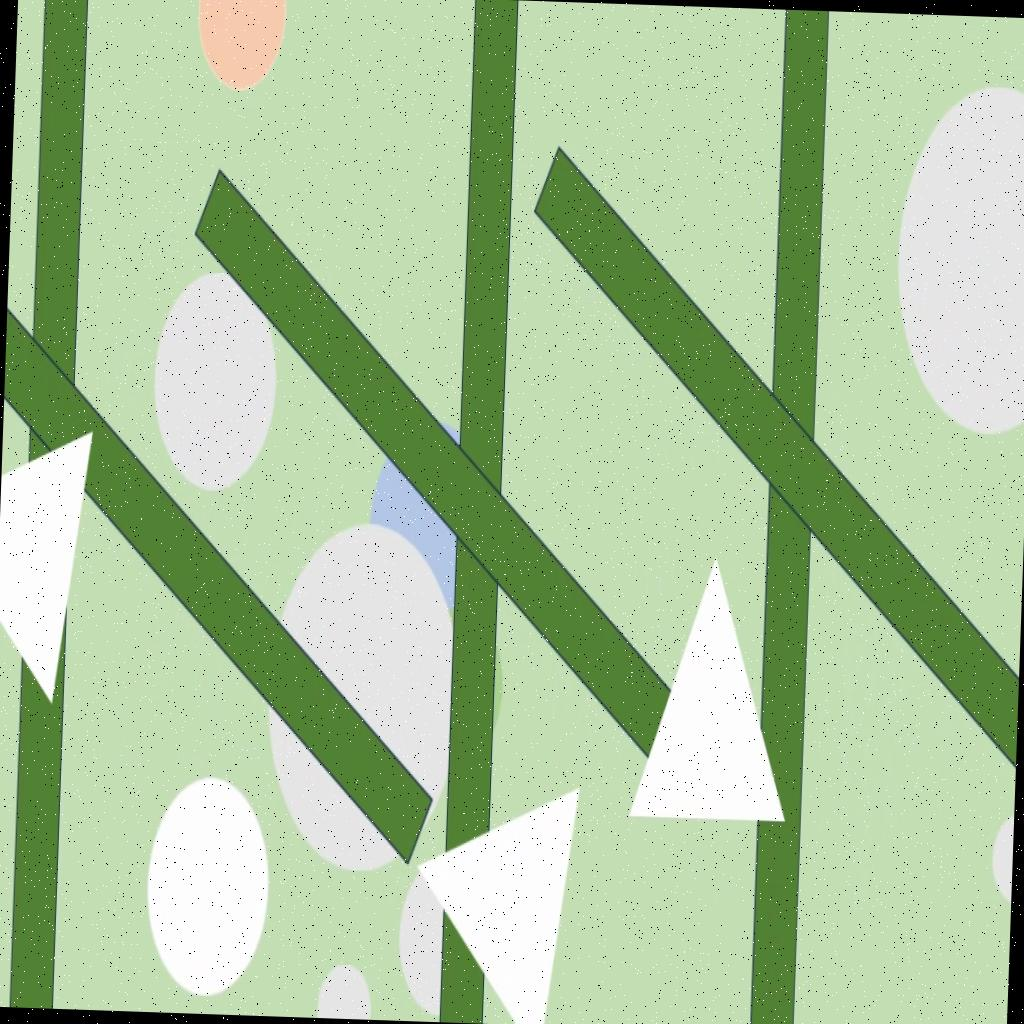Circle: (262, 516, 466, 872), (890, 83, 1024, 435), (150, 268, 280, 496), (362, 419, 499, 633), (144, 774, 273, 998), (396, 859, 482, 1018), (195, 0, 286, 91), (444, 636, 505, 734), (314, 964, 373, 1020), (991, 810, 1014, 904)
